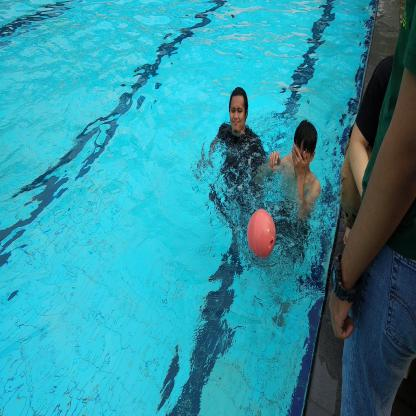red_buoy: (244, 206, 280, 265)
